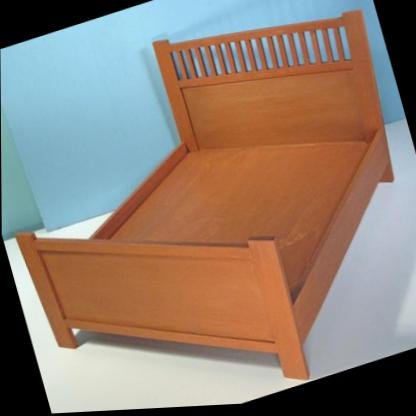Bed: (23, 15, 393, 377)
